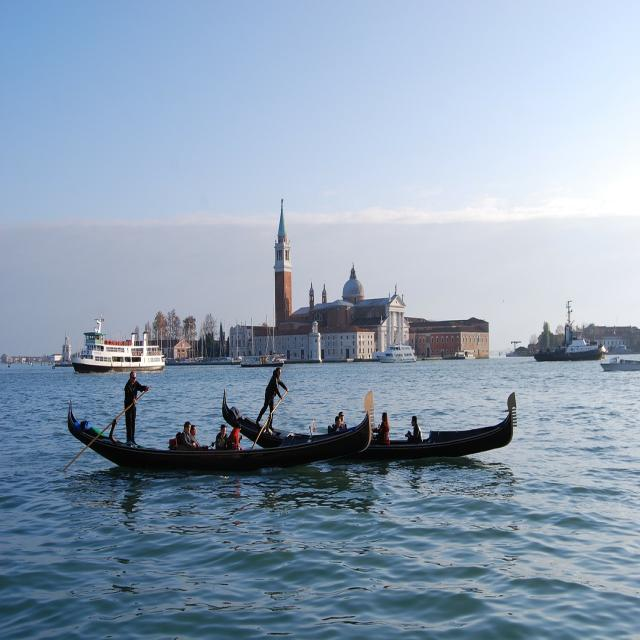boat: (56, 384, 386, 491), (214, 364, 536, 467)
